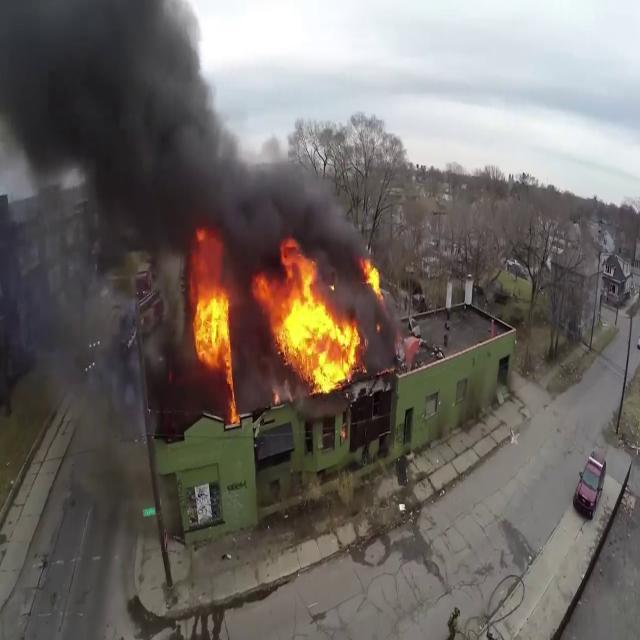Fire: (263, 244, 367, 396), (184, 242, 240, 416), (361, 254, 384, 298)
Smoke: (0, 0, 328, 274)
